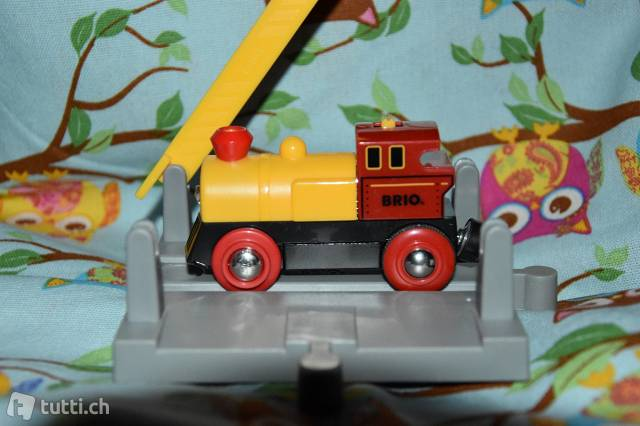brio: (179, 116, 479, 293)
